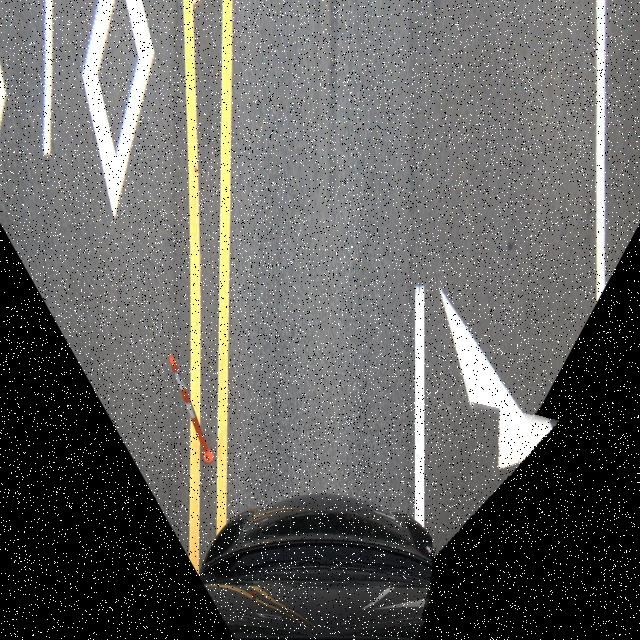diamond: (432, 409, 605, 640)
